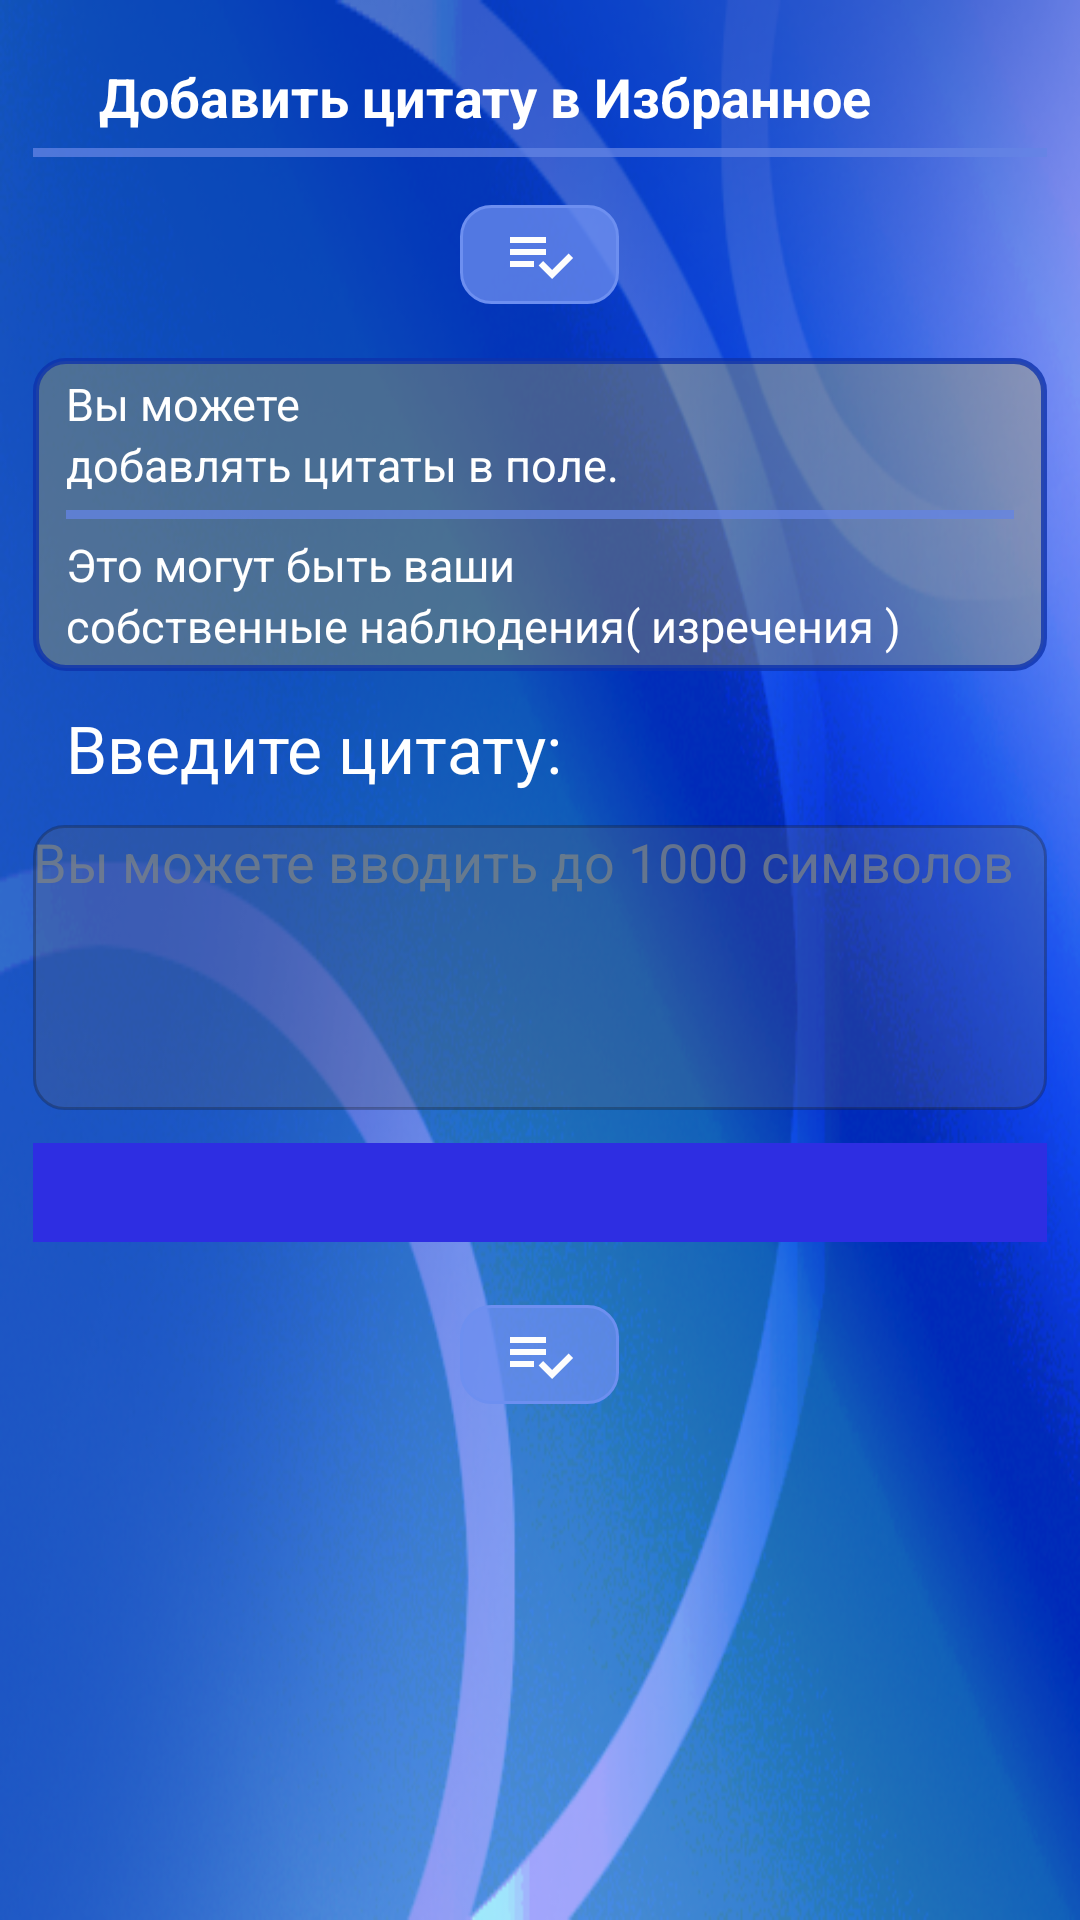

Point at icon controls on the screen. Image size 1080 × 1920, points as (x,y).
playlist add check: (539,254), (539,1354)
